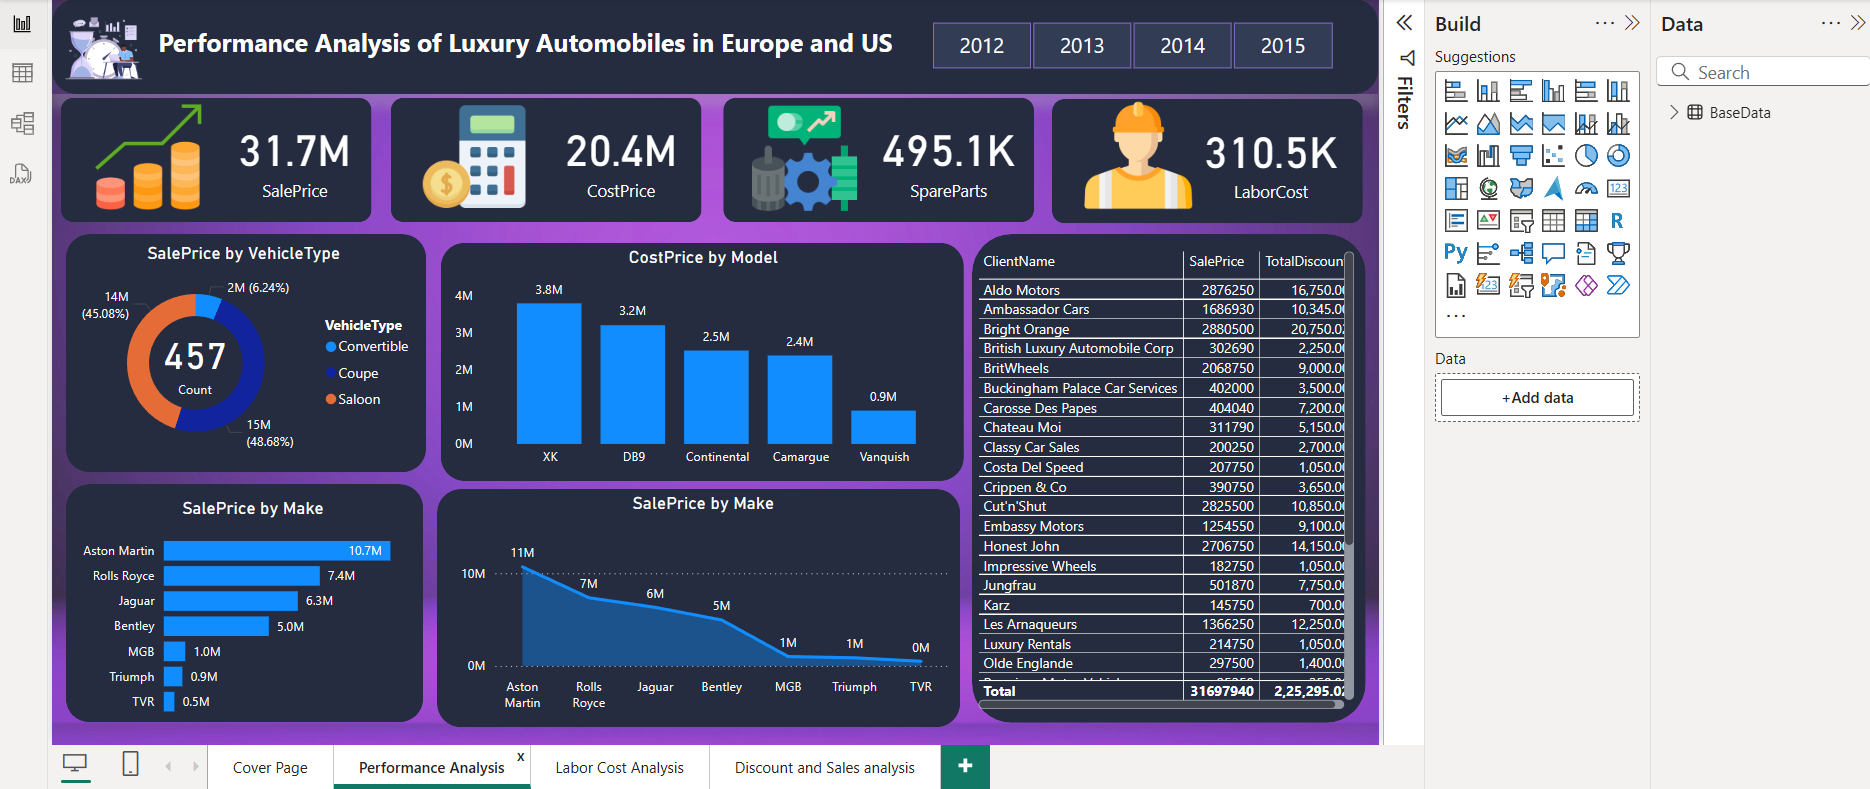

The page's visual inventory and layout, read from the dashboard file:
{"tool":"powerbi","page":{"name":"Performance Analysis","canvas":[1280,720],"ordinal":1},"visuals":[{"type":"shape","box":[12.8,227.2,347.9,230.1],"z":0},{"type":"shape","box":[12.8,468.6,345.1,230.1],"z":1000},{"type":"shape","box":[375,235,505,230],"z":2000},{"type":"shape","box":[371.7,473.3,505,230],"z":3000},{"type":"shape","box":[887.9,226.8,380,471.7],"z":4000},{"type":"shape","box":[0,0,1280,91.7],"z":5000},{"type":"textbox","box":[51.4,20,810,50],"z":6000},{"type":"slicer","fields":{"Values":["BaseData.ReportingYear"]},"box":[824.3,15.7,435.7,58.6],"z":7000},{"type":"shape","box":[8.3,95,300,120],"z":8000},{"type":"shape","box":[326.7,95,300,120],"z":9000},{"type":"shape","box":[648.3,95,300,120],"z":10000},{"type":"shape","box":[965,96.7,300,120],"z":11000},{"type":"card","fields":{"Values":["BaseData.SalePrice"]},"box":[163.3,99,143.4,107.9],"z":12000},{"type":"card","fields":{"Values":["BaseData.CostPrice"]},"box":[477.2,99,143.4,107.9],"z":13000},{"type":"card","fields":{"Values":["BaseData.SpareParts"]},"box":[793.8,99,143.4,107.9],"z":14000},{"type":"card","fields":{"Values":["BaseData.LaborCost"]},"box":[1105,100,143.3,108.3],"z":15000},{"type":"image","box":[21.3,96.6,142,112.2],"z":16000},{"type":"image","box":[338,98,139.2,109.3],"z":17000},{"type":"image","box":[991.2,89.5,113.6,123.6],"z":18000},{"type":"image","box":[660.4,92.3,132.1,122.1],"z":19000},{"type":"donutChart","fields":{"Y":["BaseData.SalePrice"],"Series":["BaseData.VehicleType"]},"box":[9.9,235.7,350.8,213],"z":20000},{"type":"clusteredBarChart","fields":{"Y":["BaseData.SalePrice"],"Category":["BaseData.Make"]},"box":[18.3,481.7,351.7,221.7],"z":21000},{"type":"clusteredColumnChart","fields":{"Y":["BaseData.CostPrice"],"Category":["BaseData.Model"]},"box":[383.6,238.9,489.8,220.8],"z":22000},{"type":"tableEx","fields":{"Values":["BaseData.ClientName","BaseData.SalePrice","BaseData.TotalDiscount"]},"box":[887.9,238.5,373.5,451.5],"z":23000},{"type":"card","fields":{"Values":["BaseData.VehicleType"]},"box":[98,308.2,80.9,83.8],"z":24000},{"type":"areaChart","fields":{"Y":["BaseData.SalePrice"],"Category":["BaseData.Make"]},"box":[383.3,476.7,490,218.3],"z":25000},{"type":"image","box":[2.9,0,95.7,95.7],"z":26000}]}

Visuals, with their boxes on the page's 1280x720 design canvas (x1, y1, x2, y2). These are canvas units, not pixel positions in the 1870x789 screenshot, which may show the page scaled, cropped or inside an application window:
shape: [left=13, top=227, right=361, bottom=457]
shape: [left=13, top=469, right=358, bottom=699]
shape: [left=375, top=235, right=880, bottom=465]
shape: [left=372, top=473, right=877, bottom=703]
shape: [left=888, top=227, right=1268, bottom=698]
shape: [left=0, top=0, right=1280, bottom=92]
textbox: [left=51, top=20, right=861, bottom=70]
slicer - BaseData.ReportingYear: [left=824, top=16, right=1260, bottom=74]
shape: [left=8, top=95, right=308, bottom=215]
shape: [left=327, top=95, right=627, bottom=215]
shape: [left=648, top=95, right=948, bottom=215]
shape: [left=965, top=97, right=1265, bottom=217]
card - BaseData.SalePrice: [left=163, top=99, right=307, bottom=207]
card - BaseData.CostPrice: [left=477, top=99, right=621, bottom=207]
card - BaseData.SpareParts: [left=794, top=99, right=937, bottom=207]
card - BaseData.LaborCost: [left=1105, top=100, right=1248, bottom=208]
image: [left=21, top=97, right=163, bottom=209]
image: [left=338, top=98, right=477, bottom=207]
image: [left=991, top=90, right=1105, bottom=213]
image: [left=660, top=92, right=792, bottom=214]
donutChart - BaseData.SalePrice x BaseData.VehicleType: [left=10, top=236, right=361, bottom=449]
clusteredBarChart - BaseData.SalePrice x BaseData.Make: [left=18, top=482, right=370, bottom=703]
clusteredColumnChart - BaseData.CostPrice x BaseData.Model: [left=384, top=239, right=873, bottom=460]
tableEx - BaseData.ClientName x BaseData.SalePrice: [left=888, top=238, right=1261, bottom=690]
card - BaseData.VehicleType: [left=98, top=308, right=179, bottom=392]
areaChart - BaseData.SalePrice x BaseData.Make: [left=383, top=477, right=873, bottom=695]
image: [left=3, top=0, right=99, bottom=96]
